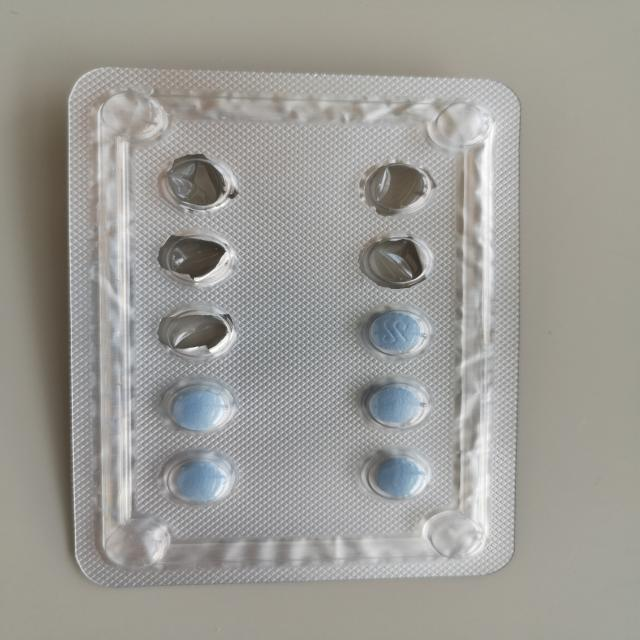Empty: (138, 144, 260, 222), (150, 225, 254, 302), (152, 300, 257, 370), (350, 154, 450, 224), (353, 228, 452, 294)
Pill: (344, 298, 447, 366), (156, 374, 248, 444), (355, 372, 448, 438), (155, 448, 247, 514), (356, 442, 439, 509)
